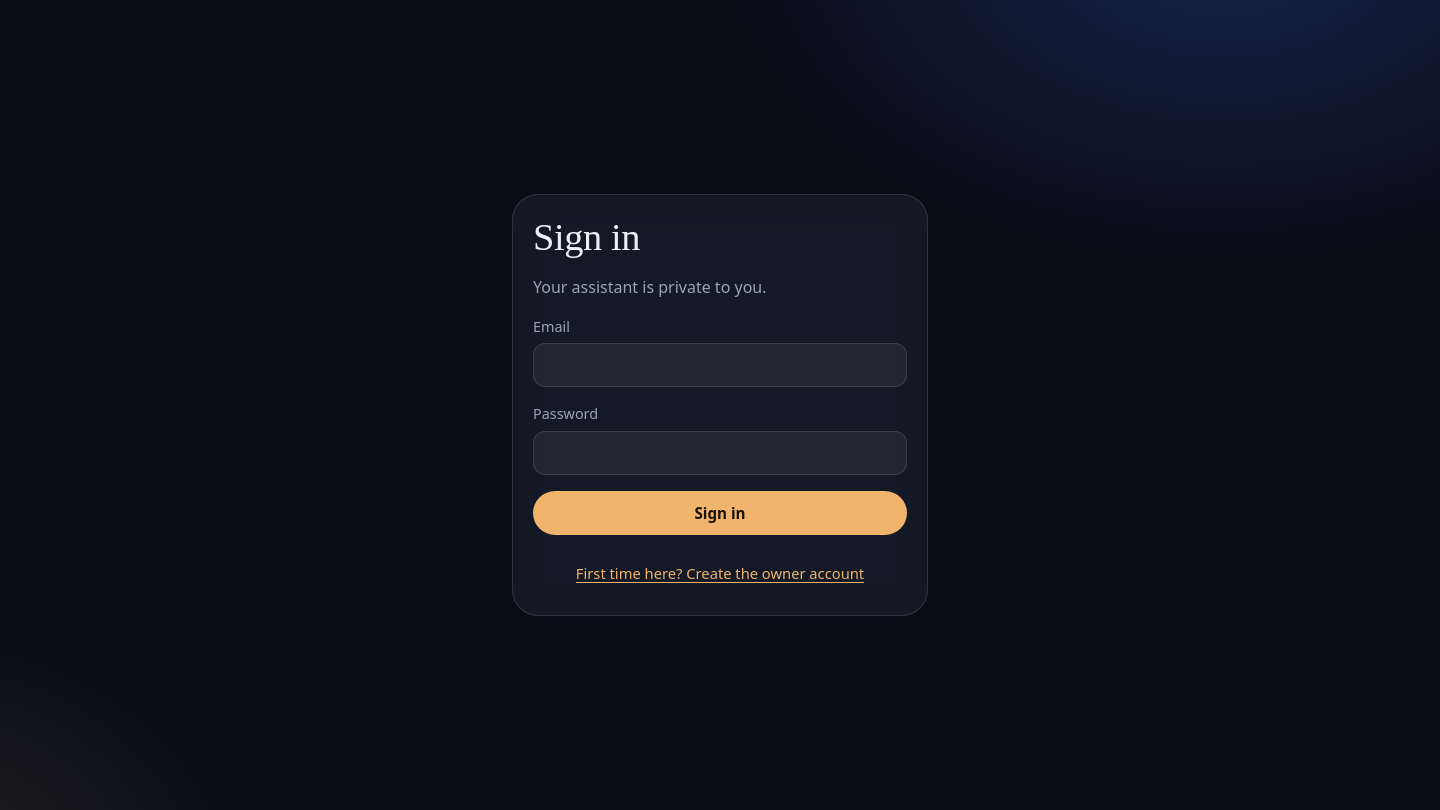
AuthGate › signs in with the existing auth API and stores the token
Type "owner@example.test" into the field labelled "Email" at x=720, y=366, box [533,344,907,388]
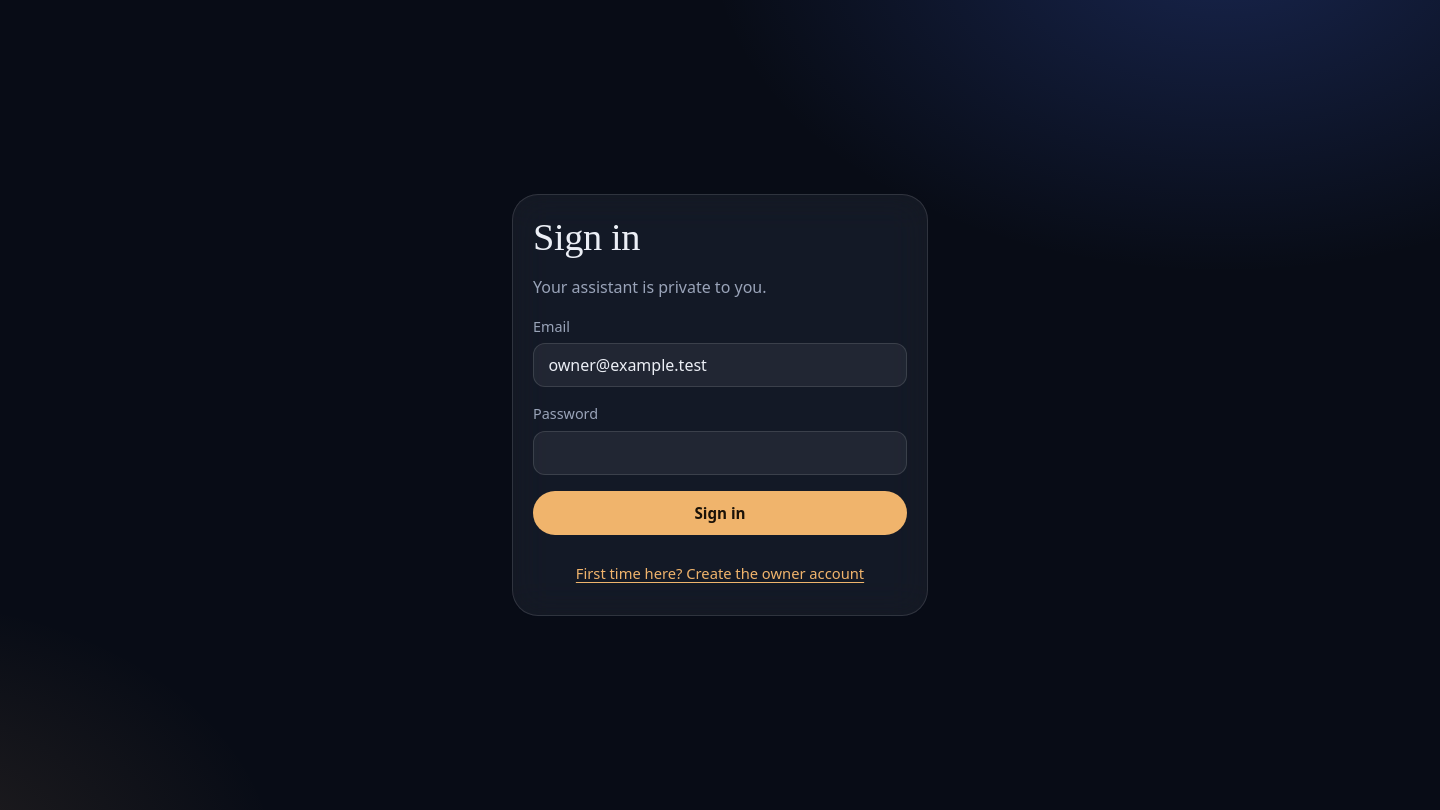
Type "correct horse battery staple" into the password field labelled "Password" at x=720, y=453, box [533,431,907,475]
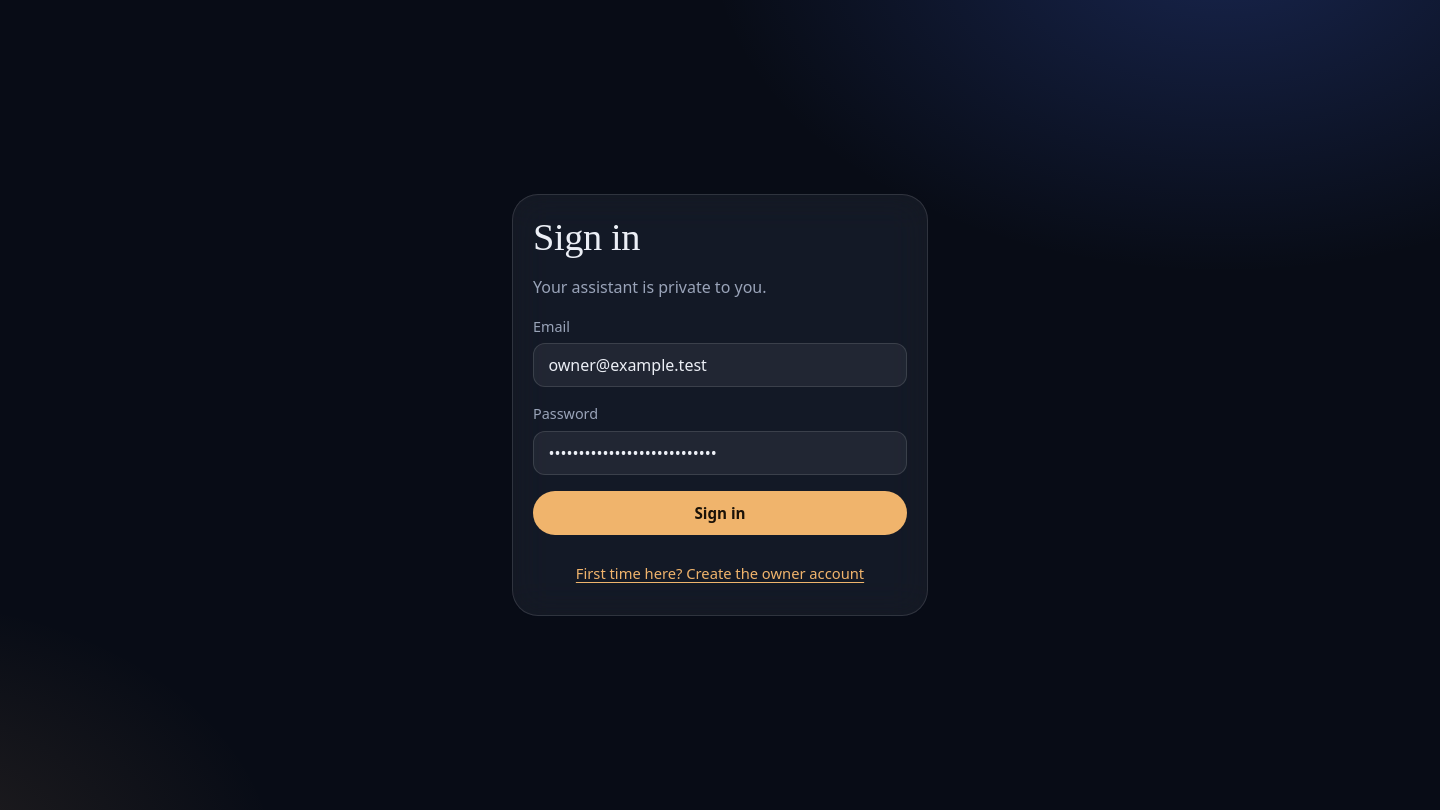
Click the button "Sign in" at x=720, y=513, box [533,491,907,535]
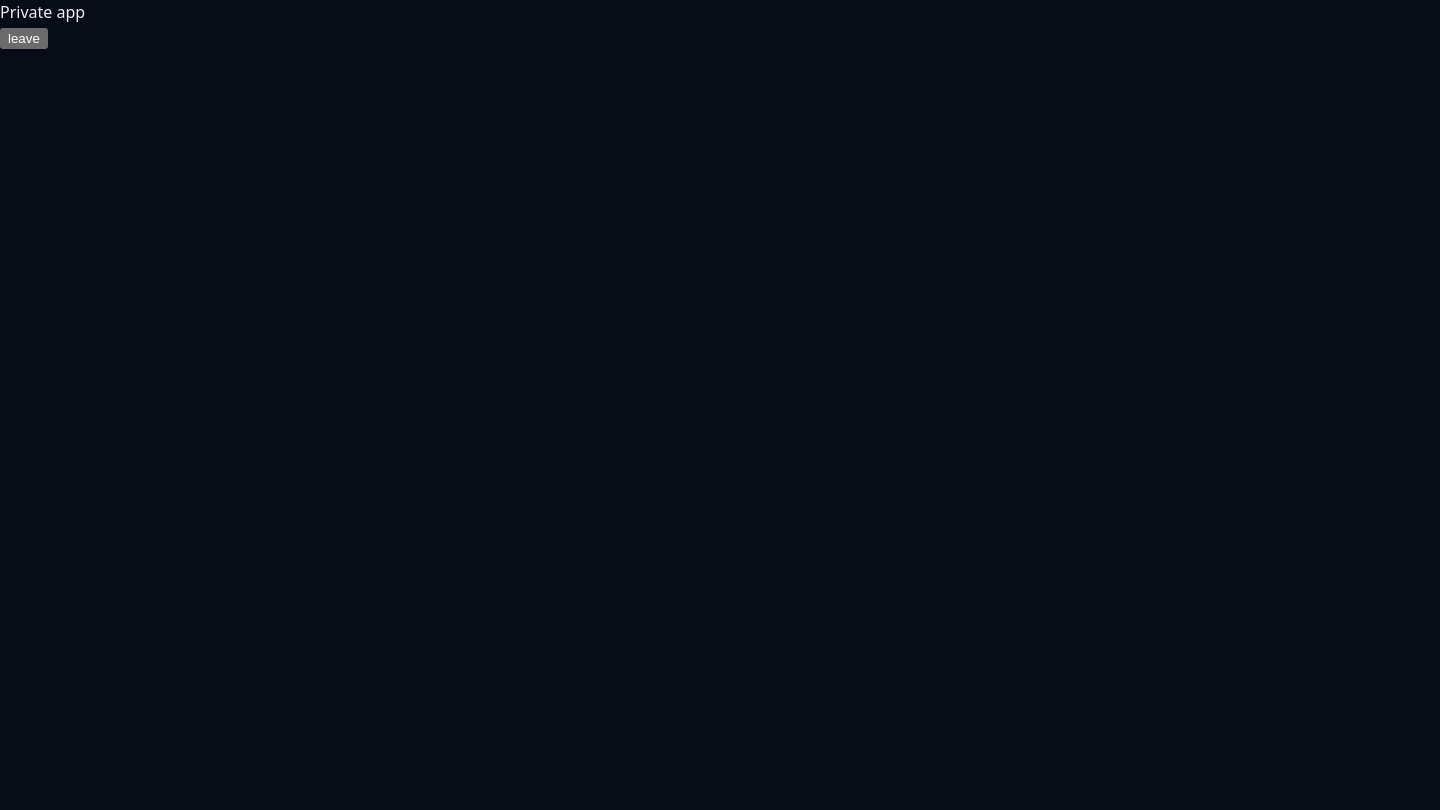
Expected: the text "Private app" is shown, [0,1,85,23]
